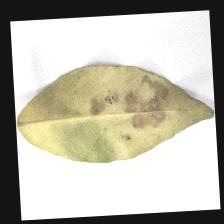black spot: (85, 80, 183, 138)
